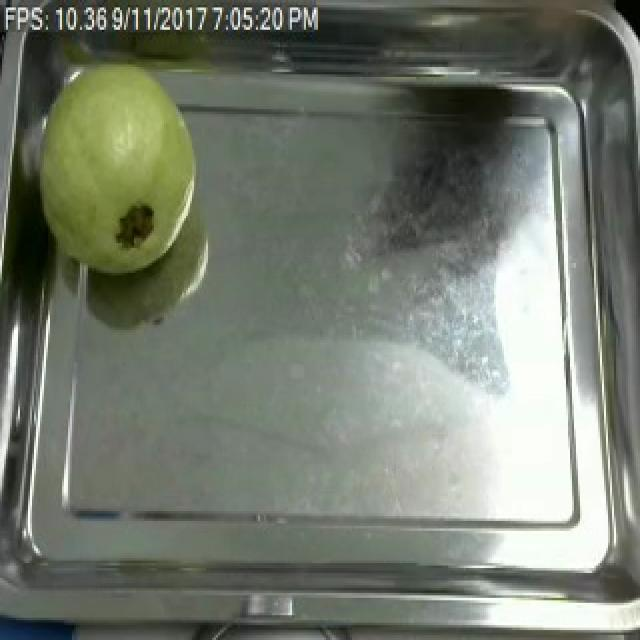Fruit: (26, 50, 210, 285)
